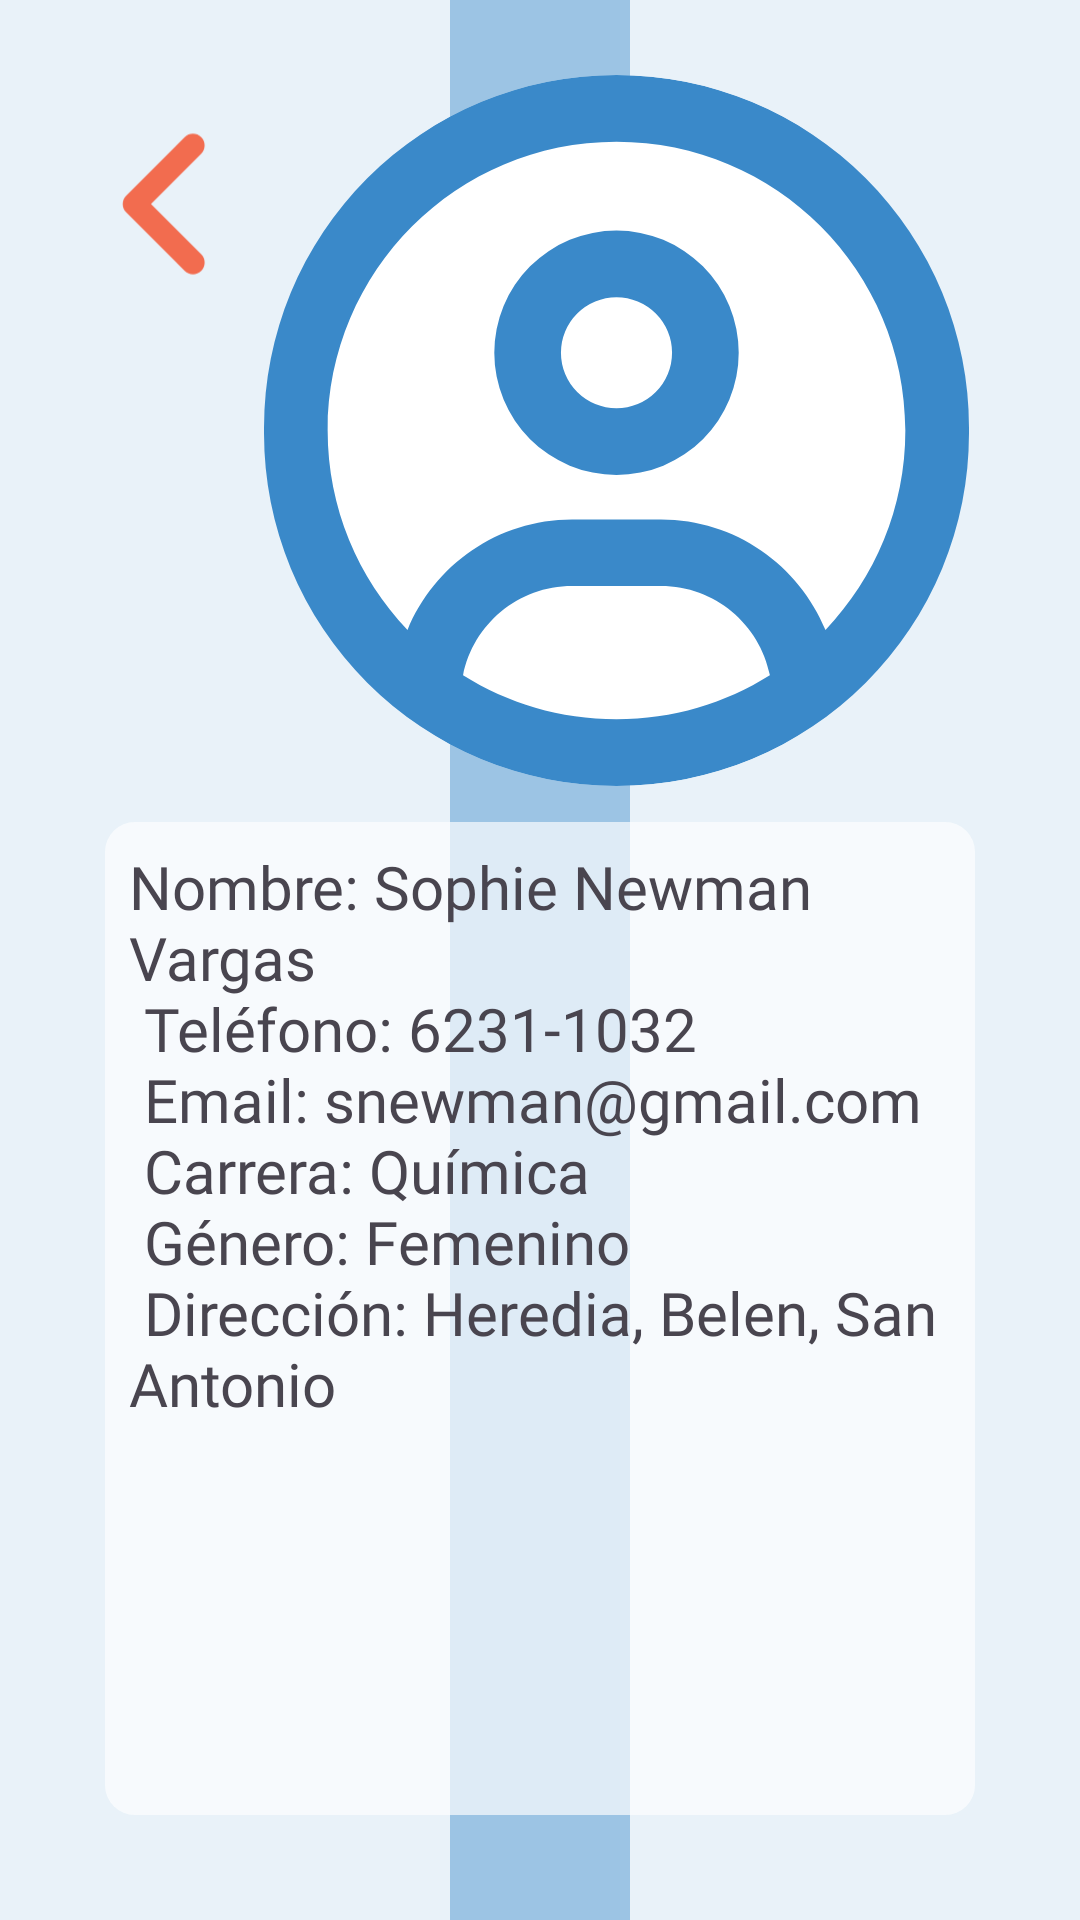

Icon click points for this 1080px×1920px phone screenshot, format [x,y]:
angle left: [163,204]
